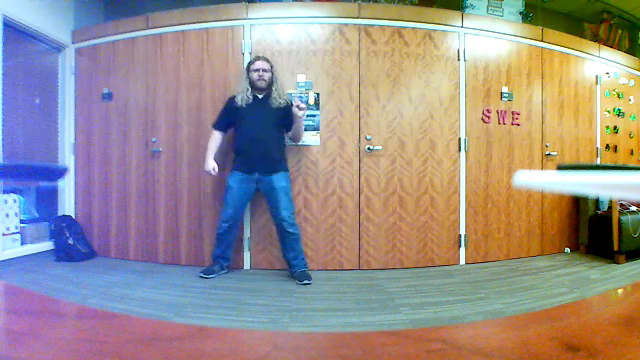up: (288, 90, 309, 117)
